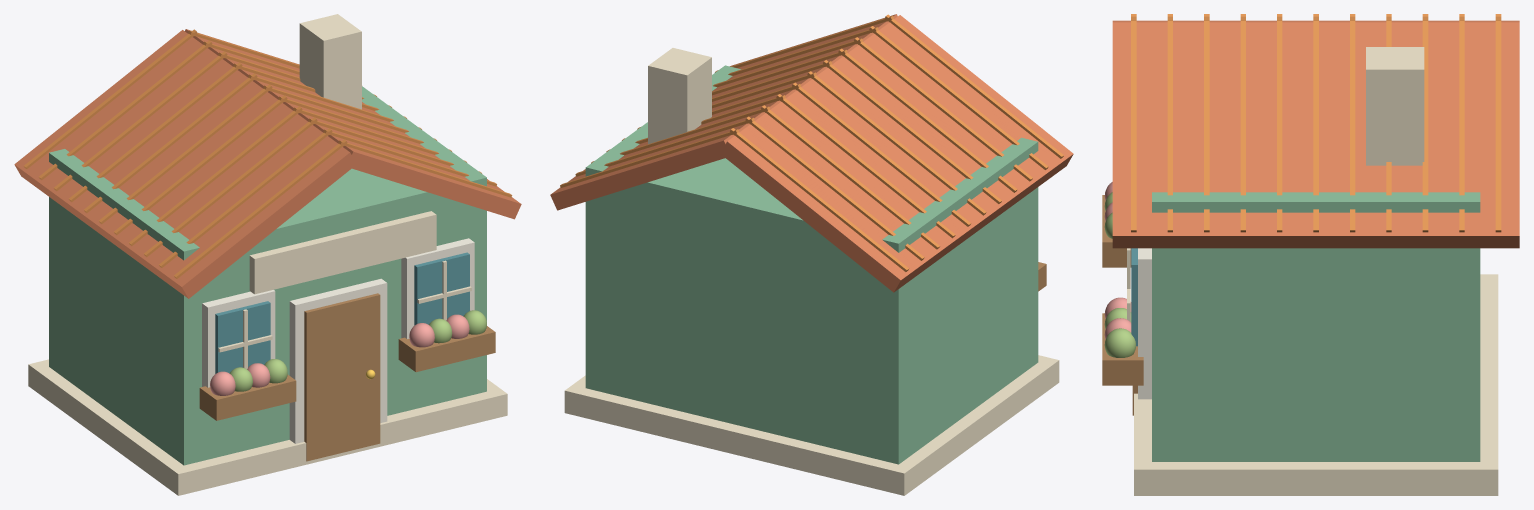
File: garage.glb
The picture shows the model from 3 angles, left to right: view 1: azimuth 30°, elevation 25°; view 2: azimuth 150°, elevation 25°; view 3: azimuth 270°, elevation 25°; orthographic projection. The views are drawn at different scales.
Parts seen in each view (by area): view 1: Stucco.001, Terracotta roof.002, Foundation.001, Door.001, Terracotta roof.003, Blank lab sign, Chimney.001, Door frame.001, Window.003, Window.002, Window box.002, Window box.003 (+20 smaller); view 2: Stucco.001, Terracotta roof.002, Foundation.001, Terracotta roof.003, Chimney.001, Roof seam.032, Roof seam.022, Roof seam.029, Roof seam.027, Roof seam.024, Roof seam.026, Roof seam.030 (+11 smaller); view 3: Stucco.001, Terracotta roof.003, Foundation.001, Chimney.001, Window frame.003, Roof seam.043, Window box.003, Roof seam.033, Roof seam.035, Roof seam.038, Roof seam.042, Roof seam.034 (+9 smaller).
Part boxes in pixels (bbox=[...]): Stucco.001: bbox=[49, 86, 486, 465]; Terracotta roof.002: bbox=[14, 30, 356, 298]; Foundation.001: bbox=[28, 359, 507, 495]; Door.001: bbox=[304, 293, 380, 461]; Terracotta roof.003: bbox=[185, 29, 521, 219]; Blank lab sign: bbox=[249, 211, 436, 294]; Chimney.001: bbox=[299, 14, 361, 109]; Door frame.001: bbox=[289, 278, 387, 443]; Window.003: bbox=[414, 252, 469, 325]; Window.002: bbox=[215, 301, 270, 373]; Window box.002: bbox=[199, 374, 296, 420]; Window box.003: bbox=[398, 326, 495, 372]; Stucco.001: bbox=[585, 65, 1038, 464]; Terracotta roof.002: bbox=[720, 15, 1073, 292]; Foundation.001: bbox=[564, 355, 1059, 495]; Terracotta roof.003: bbox=[550, 14, 897, 210]; Chimney.001: bbox=[648, 48, 711, 144]; Roof seam.032: bbox=[730, 128, 908, 271]; Roof seam.022: bbox=[885, 14, 1063, 158]; Roof seam.029: bbox=[776, 94, 955, 238]; Roof seam.027: bbox=[807, 71, 986, 215]; Roof seam.024: bbox=[854, 37, 1032, 181]; Roof seam.026: bbox=[823, 60, 1001, 203]; Roof seam.030: bbox=[761, 105, 939, 249]; Stucco.001: bbox=[1152, 192, 1480, 461]; Terracotta roof.003: bbox=[1112, 22, 1519, 248]; Foundation.001: bbox=[1134, 274, 1498, 495]; Chimney.001: bbox=[1366, 47, 1424, 165]; Window frame.003: bbox=[1138, 248, 1151, 360]; Roof seam.043: bbox=[1495, 14, 1501, 232]; Window box.003: bbox=[1102, 313, 1143, 385]; Roof seam.033: bbox=[1131, 14, 1136, 232]; Roof seam.035: bbox=[1204, 14, 1209, 232]; Roof seam.038: bbox=[1313, 14, 1318, 232]; Roof seam.042: bbox=[1459, 14, 1464, 232]; Roof seam.034: bbox=[1167, 14, 1172, 232].
Bounding box in the file's own units: 3.92 × 3.61 × 3.43.
